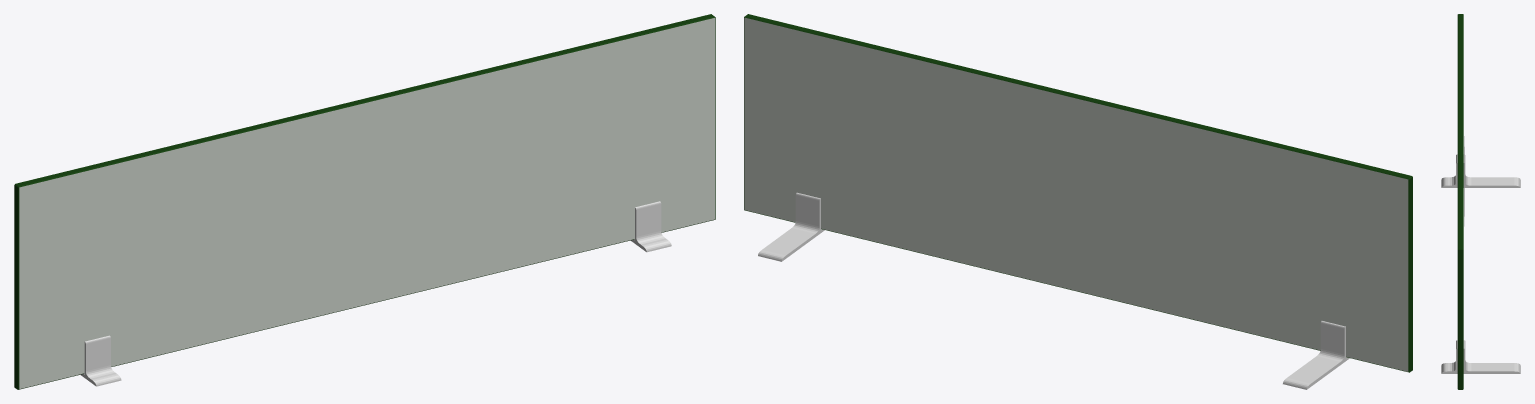
3 views of the same model, side by side, from view 1: azimuth 30°, elevation 25°; view 2: azimuth 150°, elevation 25°; view 3: azimuth 270°, elevation 25° (orthographic). The views are drawn at different scales.
Size of the model in its own units: 0.7416 by 0.2107 by 0.1052.
